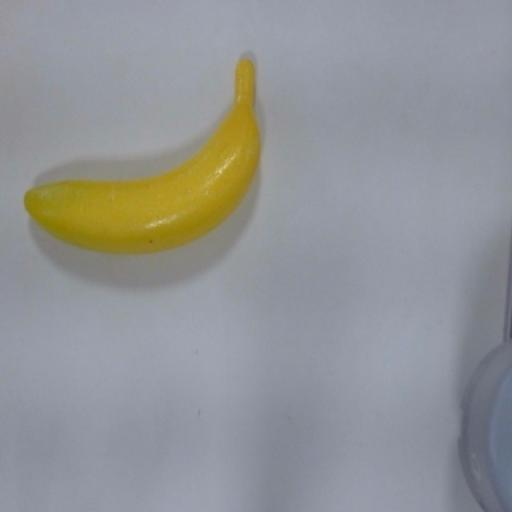Ripe: (22, 45, 273, 263)
